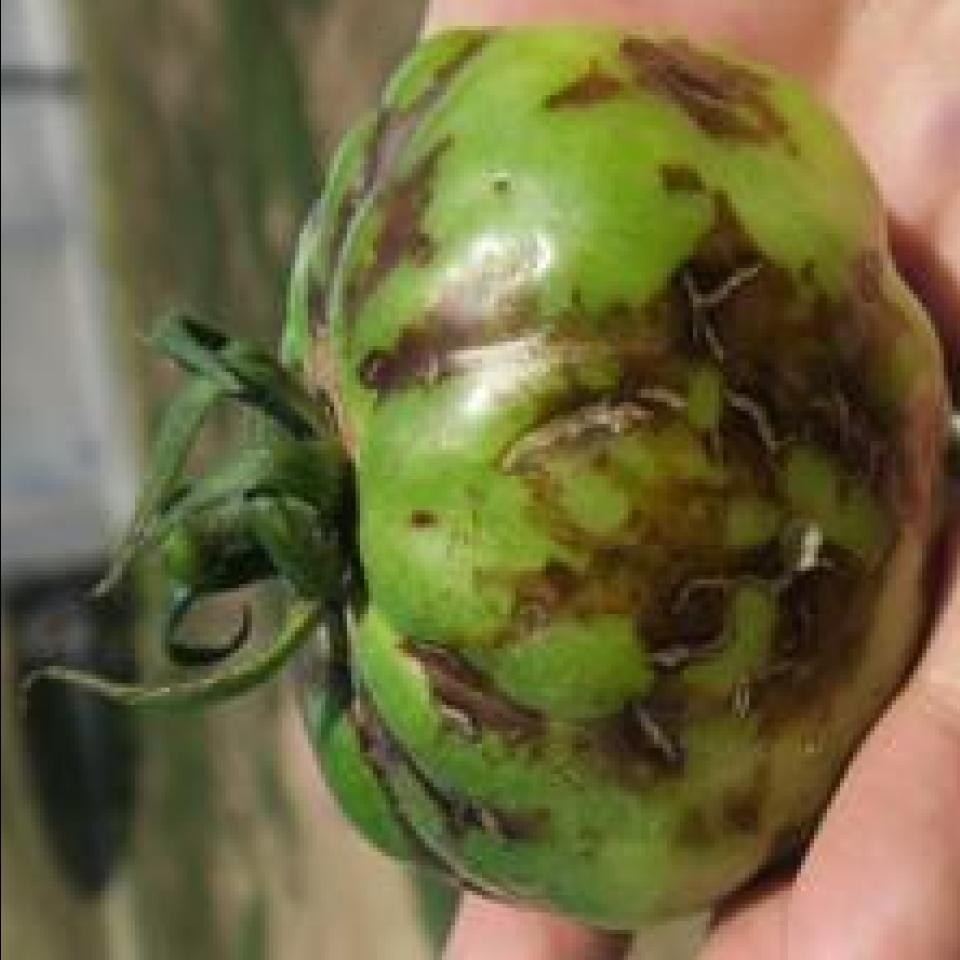Spotted wilt Virus: (262, 23, 955, 929)
